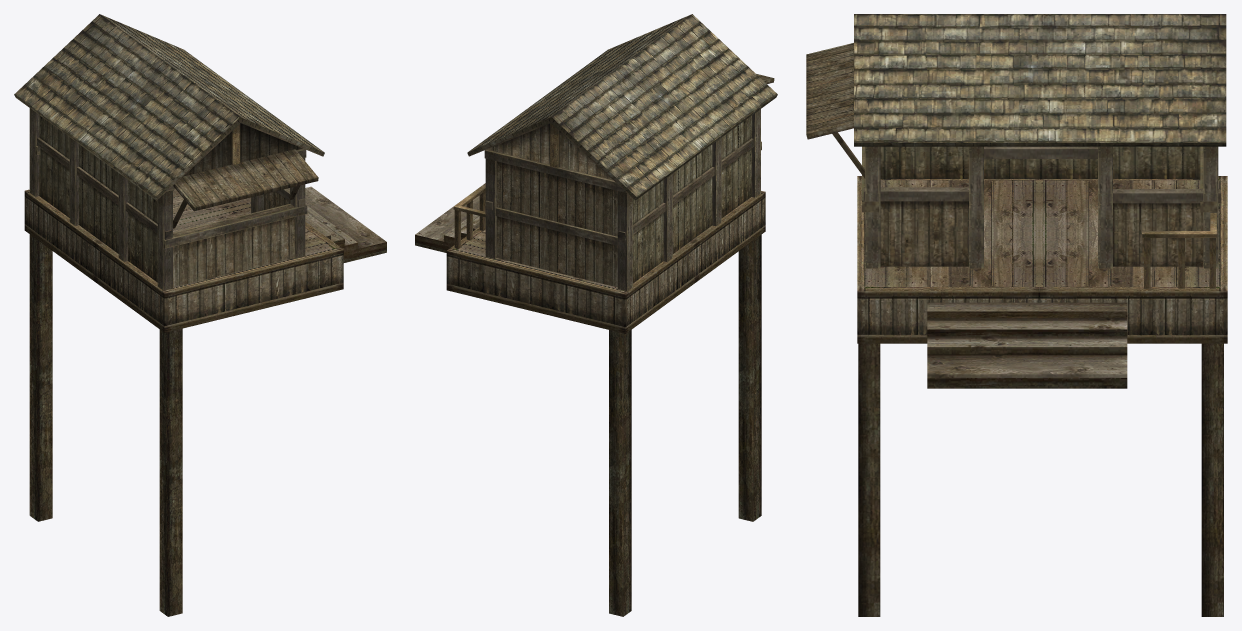
The model's file is b_general_obj_01_1.fbx.
3 renders of one model, left to right at view 1: azimuth 30°, elevation 25°; view 2: azimuth 150°, elevation 25°; view 3: azimuth 270°, elevation 25°, orthographic. The views are drawn at different scales.
Visible parts, largest first — view 1: Sphere01; view 2: Sphere01; view 3: Sphere01.
Boxes of the visible parts, bbox=[...] form: Sphere01: bbox=[14, 14, 386, 616]; Sphere01: bbox=[415, 14, 777, 616]; Sphere01: bbox=[806, 14, 1227, 616].
Bounding box in the file's own units: 7.93 × 14.11 × 8.43.
